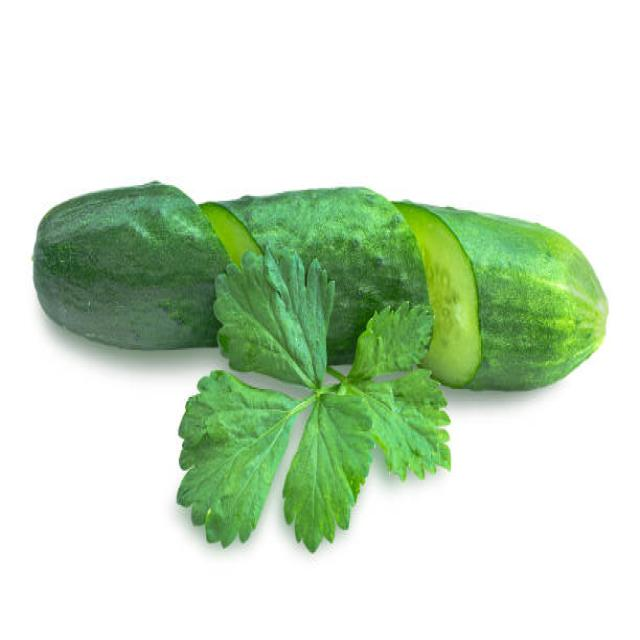cucumber: (32, 182, 608, 394)
